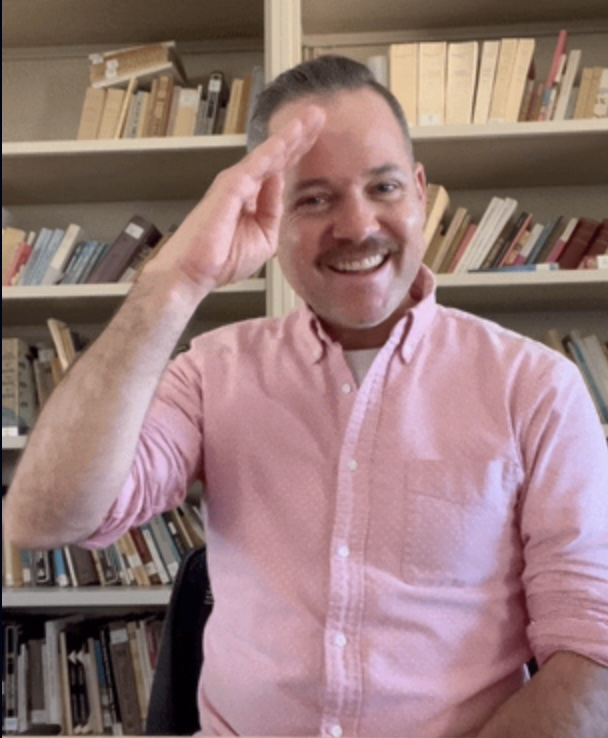hello: (197, 102, 365, 292)
